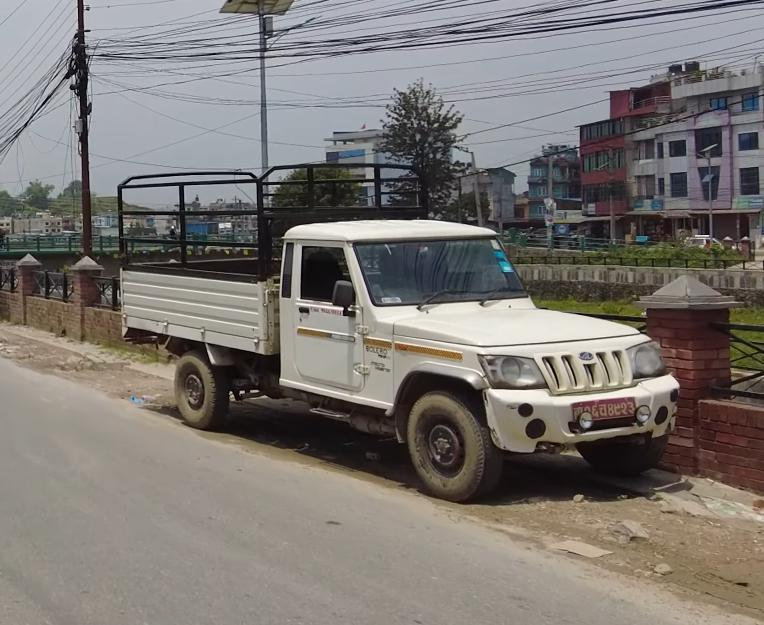transport_vehicle: (97, 147, 687, 517)
